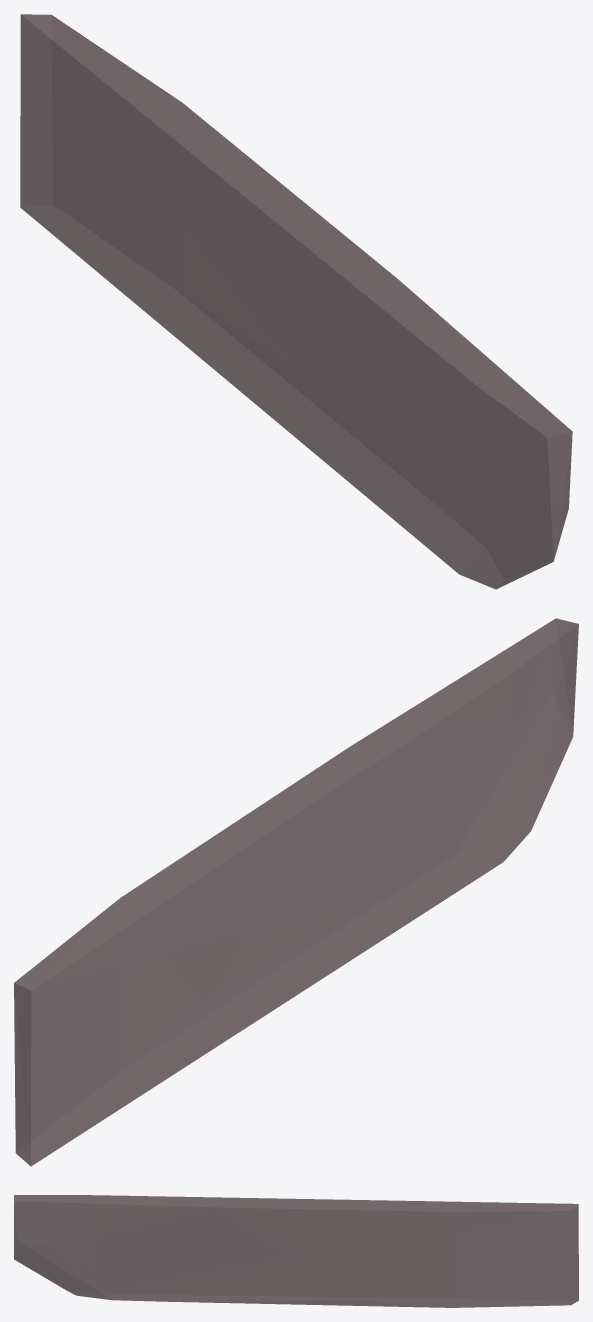
The picture shows the model from 3 angles, top to bottom: view 1: azimuth 30°, elevation 25°; view 2: azimuth 150°, elevation 25°; view 3: azimuth 270°, elevation 25°; orthographic projection. The views are drawn at different scales.
Parts seen in each view (by area): view 1: Shape_IndexedFaceSet.039_Shape_IndexedFaceSet.1736; view 2: Shape_IndexedFaceSet.039_Shape_IndexedFaceSet.1736; view 3: Shape_IndexedFaceSet.039_Shape_IndexedFaceSet.1736.
Part boxes in pixels (x1,y1,x2,y2): Shape_IndexedFaceSet.039_Shape_IndexedFaceSet.1736: (20, 14, 572, 589); Shape_IndexedFaceSet.039_Shape_IndexedFaceSet.1736: (14, 618, 578, 1166); Shape_IndexedFaceSet.039_Shape_IndexedFaceSet.1736: (14, 1195, 578, 1307).
Bounding box in the file's own units: 0.0389 × 0.1028 × 0.5275.
